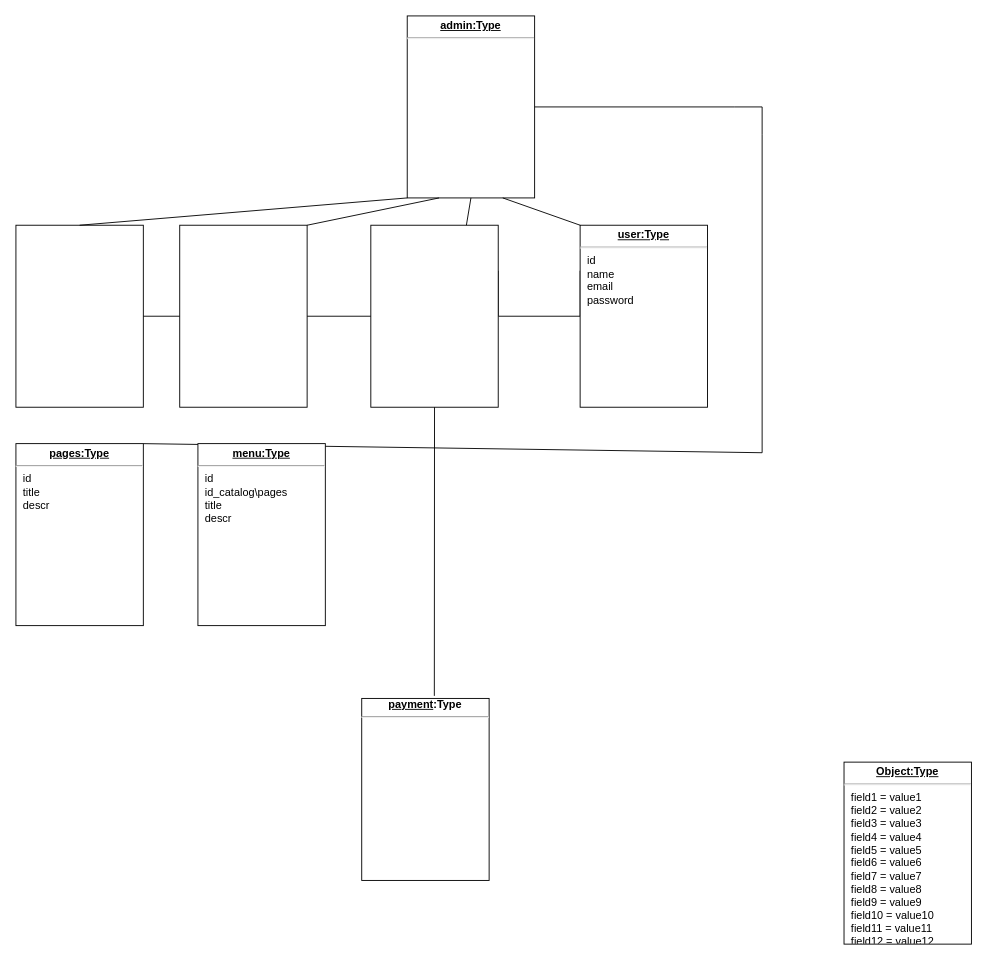
Some shapes in this 987 by 963 pixel diagram are drawn without their labels. Each missing label, with the box of its shape:
basket(корзина) :Type id id_user id_product price_prod quantity_prod: (370, 224, 498, 407)
Catalog:Type id title descr: (15, 224, 143, 407)
product:Type id id_catalog title descr price price_discount img: (179, 224, 307, 407)
